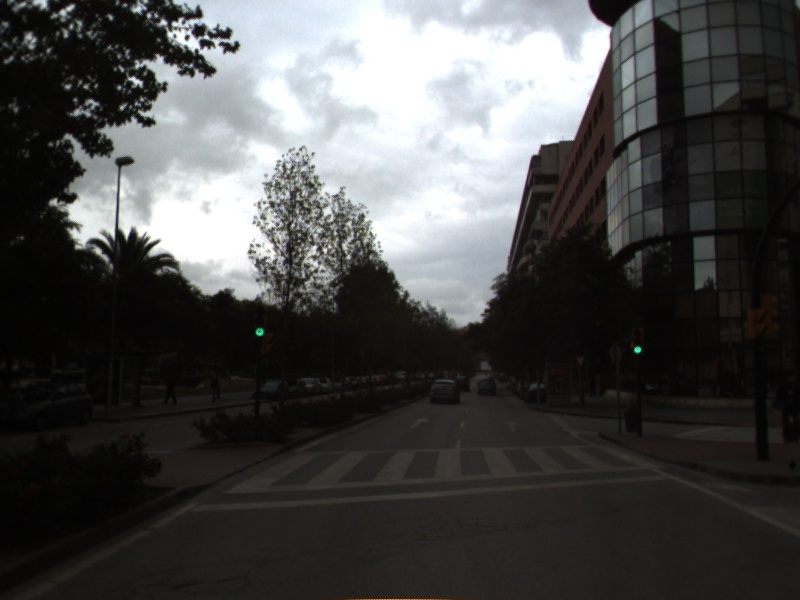STRAIGHT: (408, 416, 431, 430), (502, 419, 522, 433)
